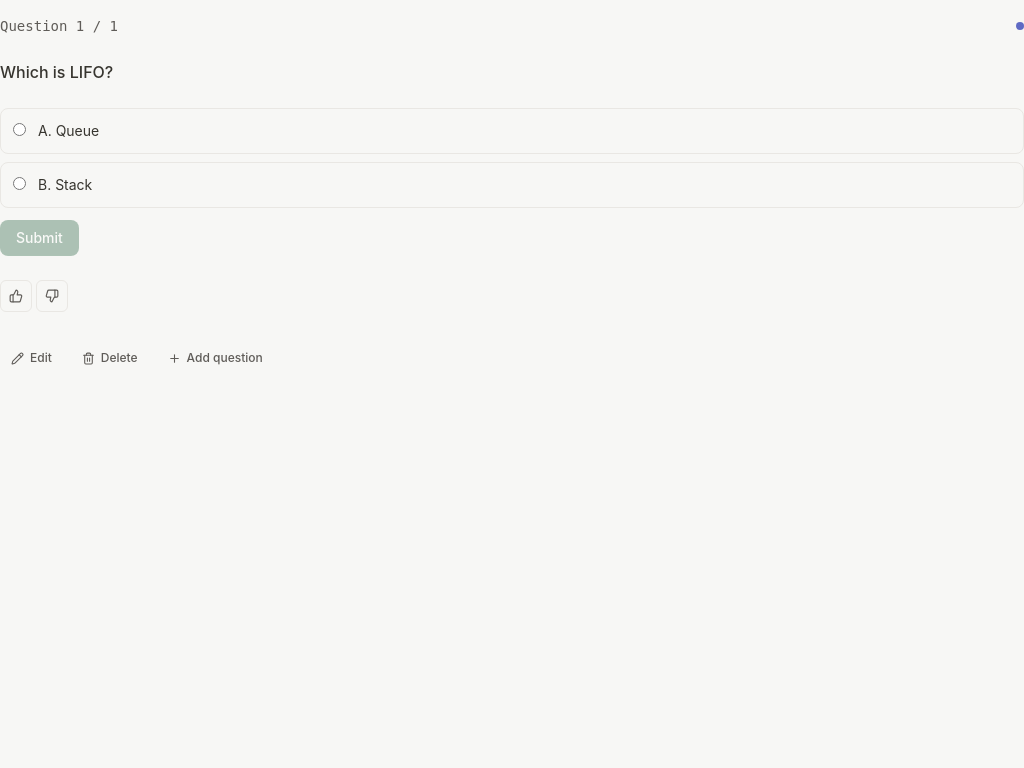
it: quiz editing › edits a multiple-choice question, keeping lettered options, and swaps to the new id
Expected: the text "Which is LIFO?" is shown, [0,62,113,82]
Click the button "Edit".
click(31, 358)  # box [0,336,63,380]
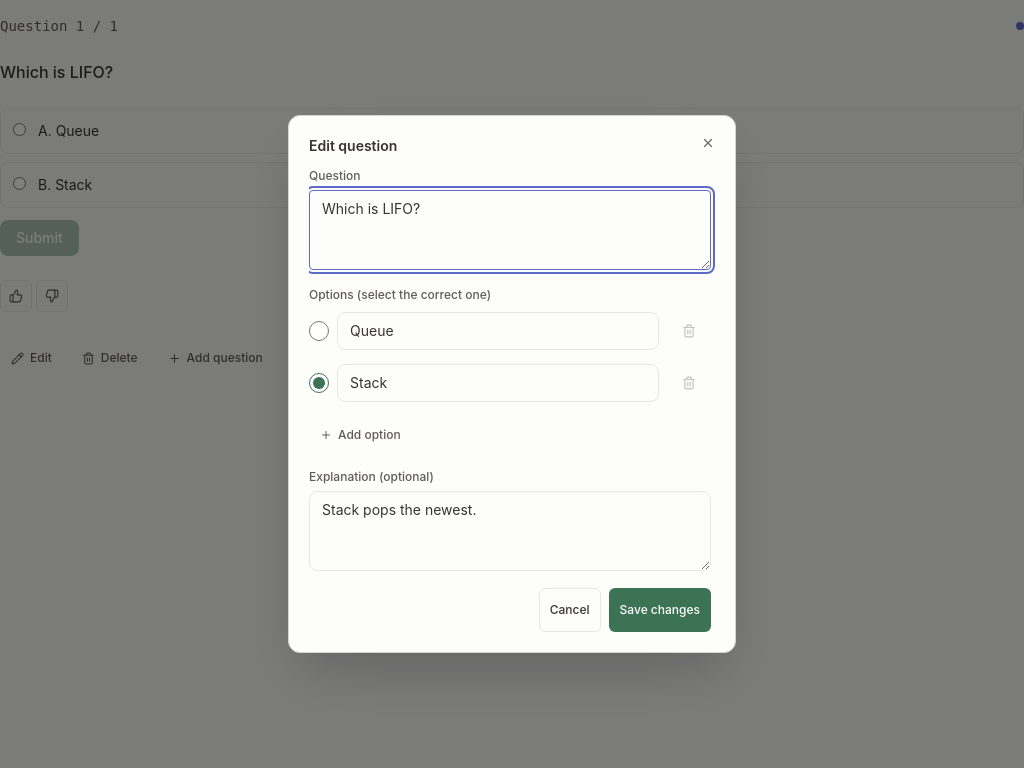
Now the radio button named "Option 2 is correct" is checked, box [309,373,329,393]
Replace the text in the text box labelled "Question" with "Which structure is LIFO?" at coordinates (510, 230), box [309,190,711,270]
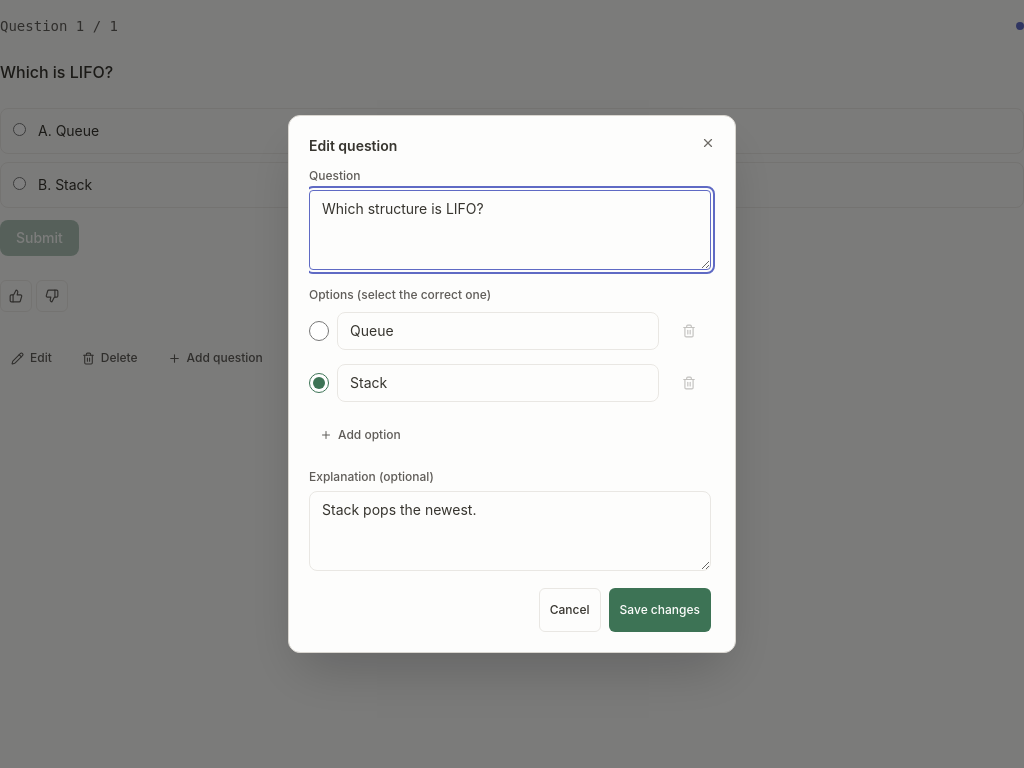
Click the button "Save changes".
click(660, 610)  # box [609,588,711,632]
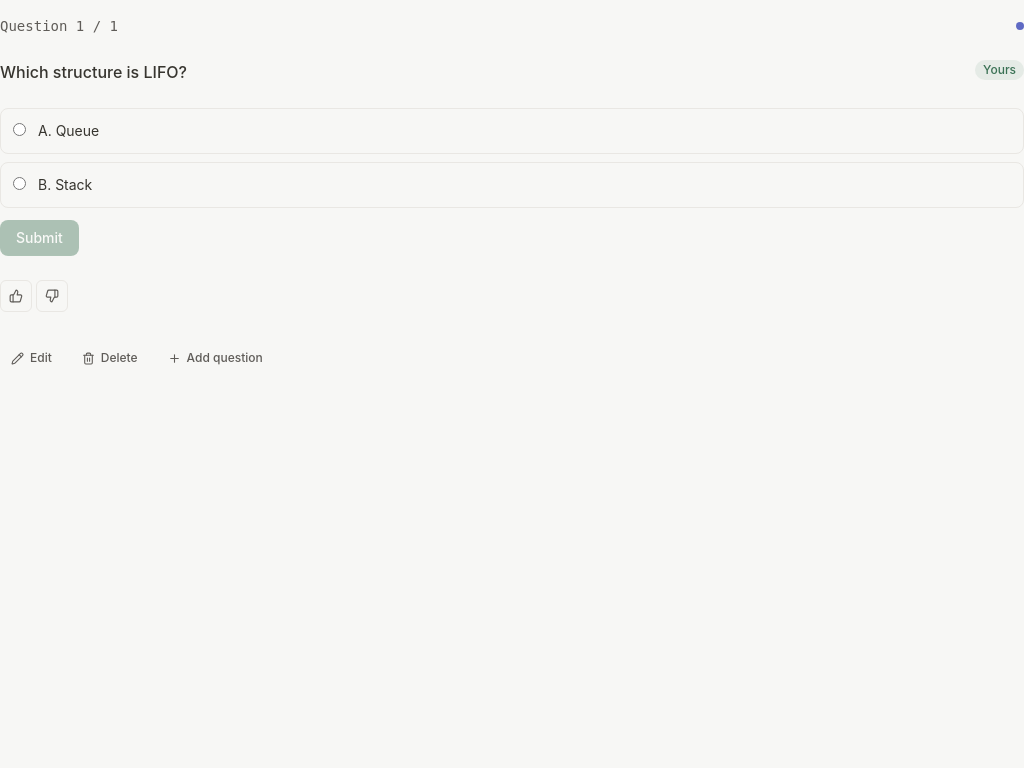
Now the text "Which structure is LIFO?" is shown, box [0,62,187,82]
Now the text "Yours" is shown, box [975,60,1023,80]
